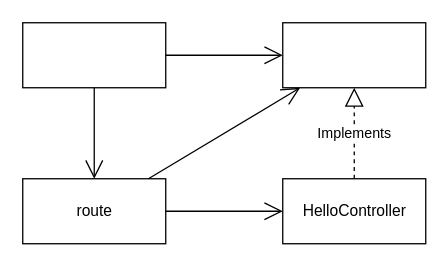
The diagram is 448 pixels wide and 267 high, and some of its shapes have lost their labels. Each missing label, with the centre of its shape:
AbstractController: point 353,54
Application: point 93,54
